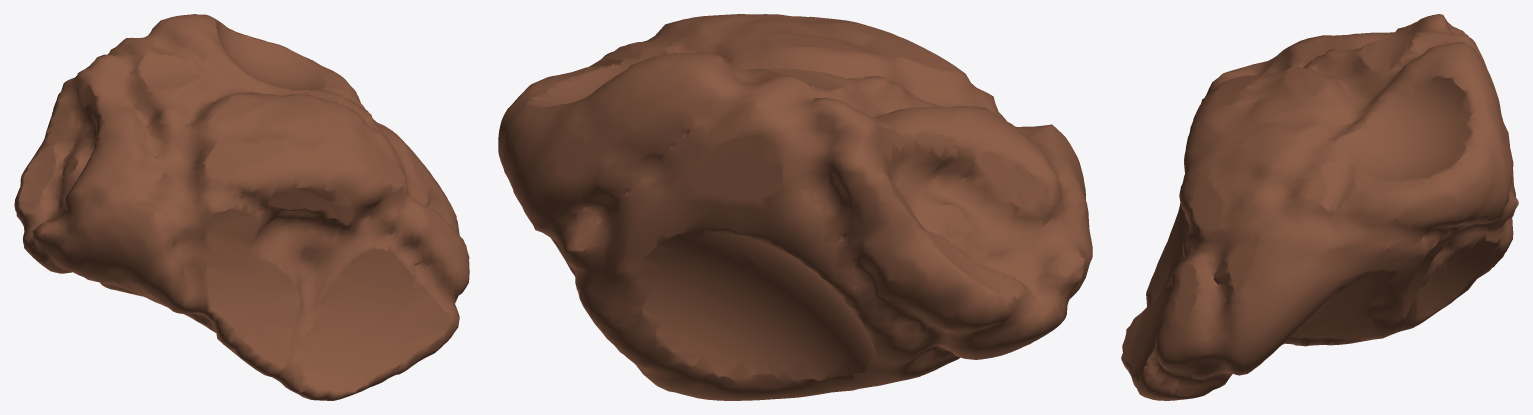
File: Asteroid 2 DMG.fbx
3 views of the same model, side by side, from view 1: azimuth 30°, elevation 25°; view 2: azimuth 150°, elevation 25°; view 3: azimuth 270°, elevation 25° (orthographic). The views are drawn at different scales.
Parts seen in each view (by area): view 1: rock.016_dmg; view 2: rock.016_dmg; view 3: rock.016_dmg.
Part boxes in pixels (x1,y1,x2,y2): rock.016_dmg: (14,14,469,400); rock.016_dmg: (498,14,1092,400); rock.016_dmg: (1121,14,1518,400).
Bounding box in the file's own units: 138 × 96.11 × 112.
